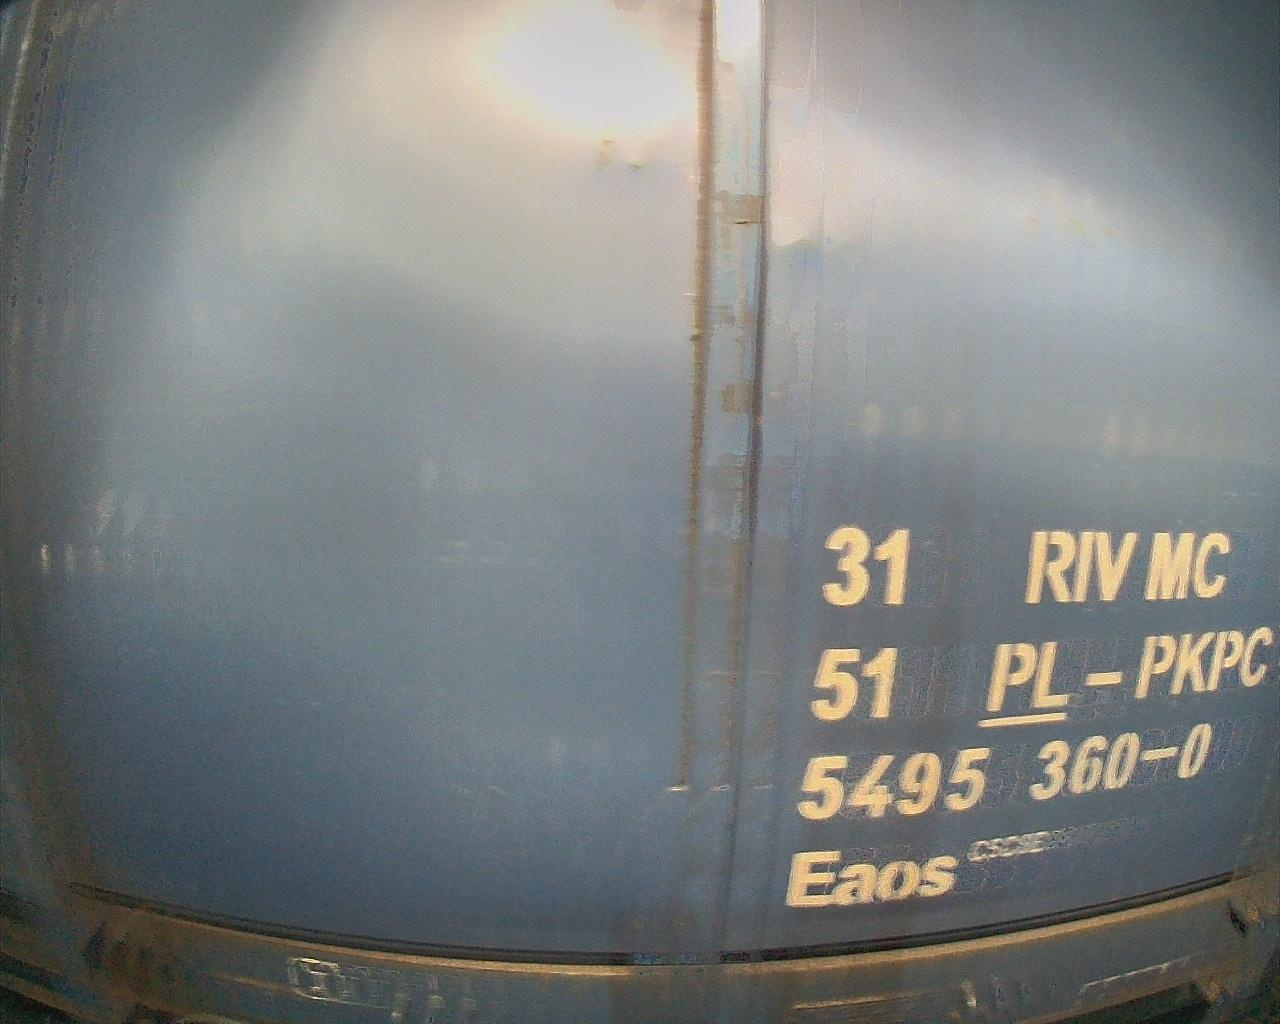UIC: (782, 520, 1280, 913)
